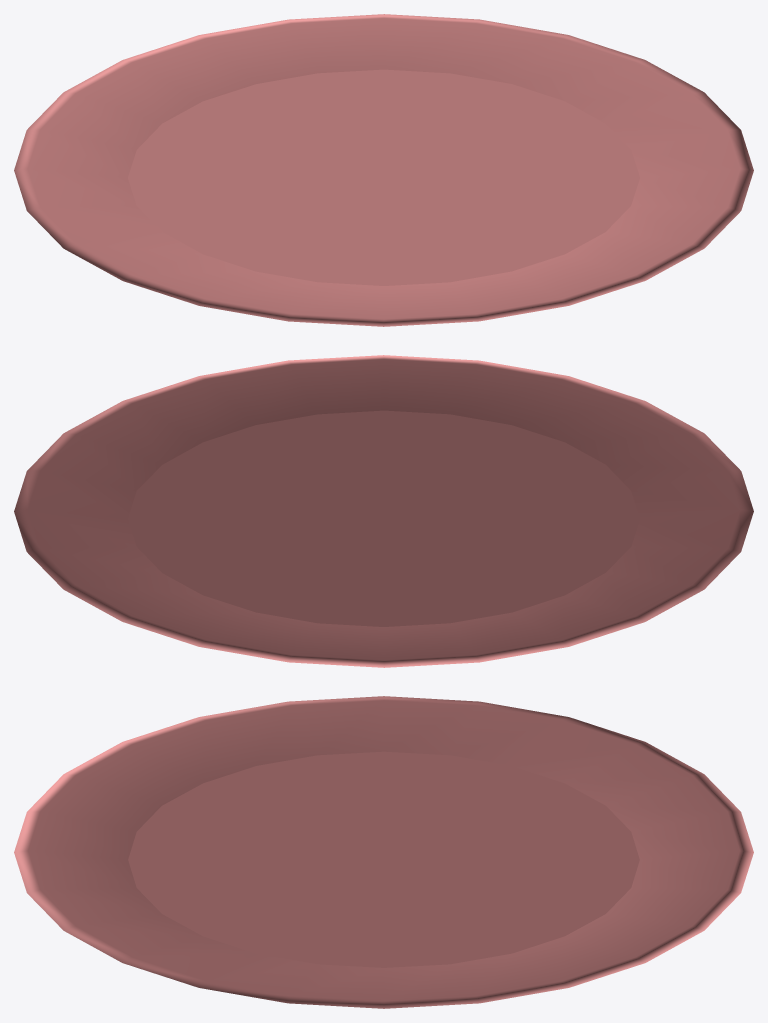
File: TFYK_plate_high_poly.FBX
3 views of the same model, one above another, from view 1: azimuth 30°, elevation 25°; view 2: azimuth 150°, elevation 25°; view 3: azimuth 270°, elevation 25° (orthographic).
Visible parts, largest first — view 1: TFYK_plate_high_poly; view 2: TFYK_plate_high_poly; view 3: TFYK_plate_high_poly.
Boxes of the visible parts, bbox=[...] form: TFYK_plate_high_poly: bbox=[14, 14, 753, 326]; TFYK_plate_high_poly: bbox=[14, 355, 753, 667]; TFYK_plate_high_poly: bbox=[14, 696, 753, 1008].
Size of the model in its own units: 0.155 by 0.0073 by 0.155.
